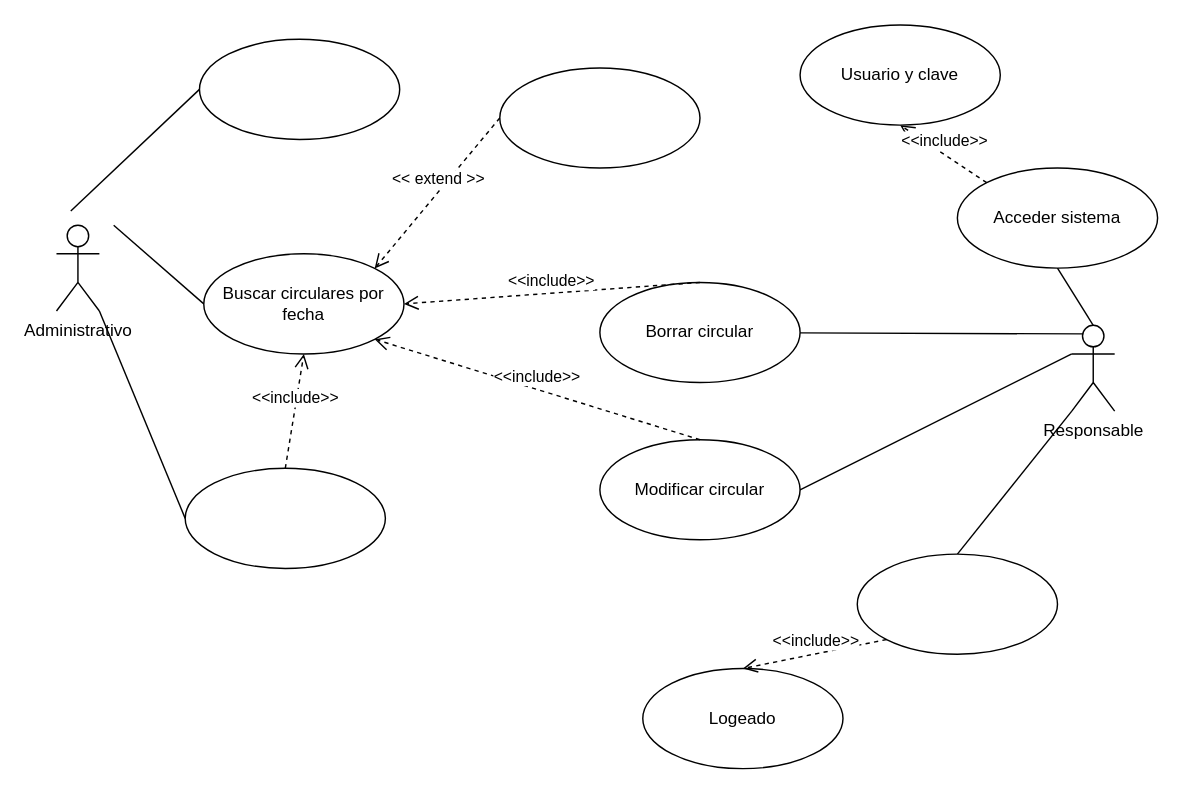
Image size: 1183x794. Some labels were removed from this diagram. Here are the shapes that lost their labels. From the top down, the box of each, then its label:
(198, 38, 400, 139): Subscribirse boletín circulares
(498, 66, 700, 168): Busqueda ampliada
(184, 467, 385, 568): Ver detalles circular
(856, 553, 1057, 654): Publicar una circular
